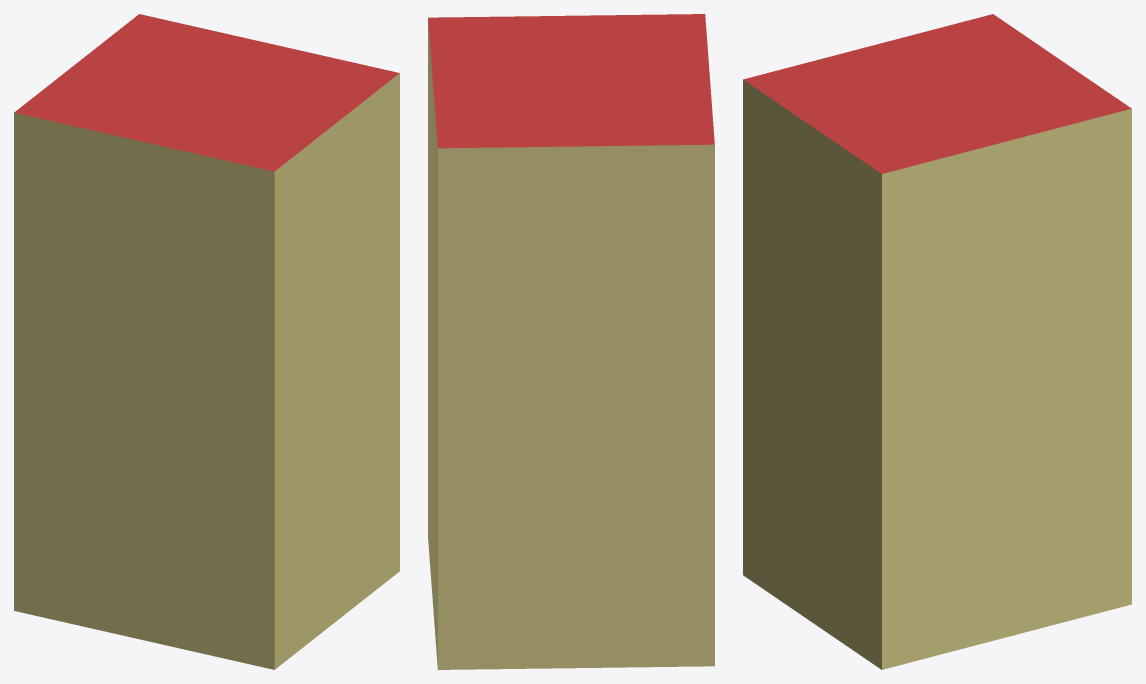
3 views of the same model, side by side, from view 1: azimuth 30°, elevation 25°; view 2: azimuth 150°, elevation 25°; view 3: azimuth 270°, elevation 25° (orthographic). The views are drawn at different scales.
Size of the model in its own units: 3.78 by 3.88 by 5.46.
